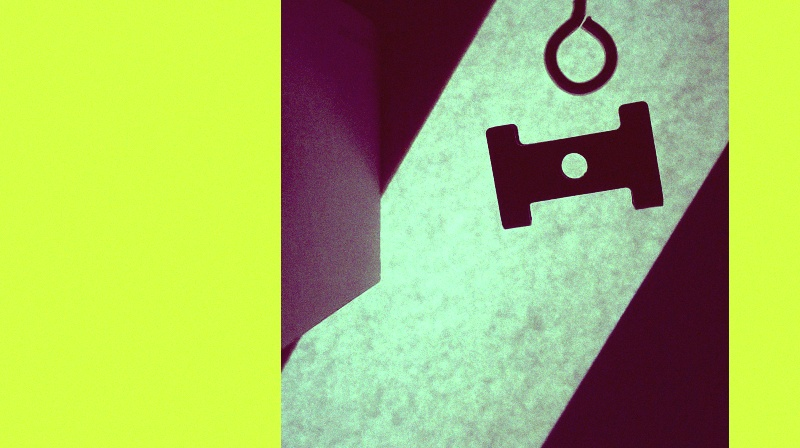O001: (539, 0, 621, 97)
O002: (484, 98, 662, 233)
